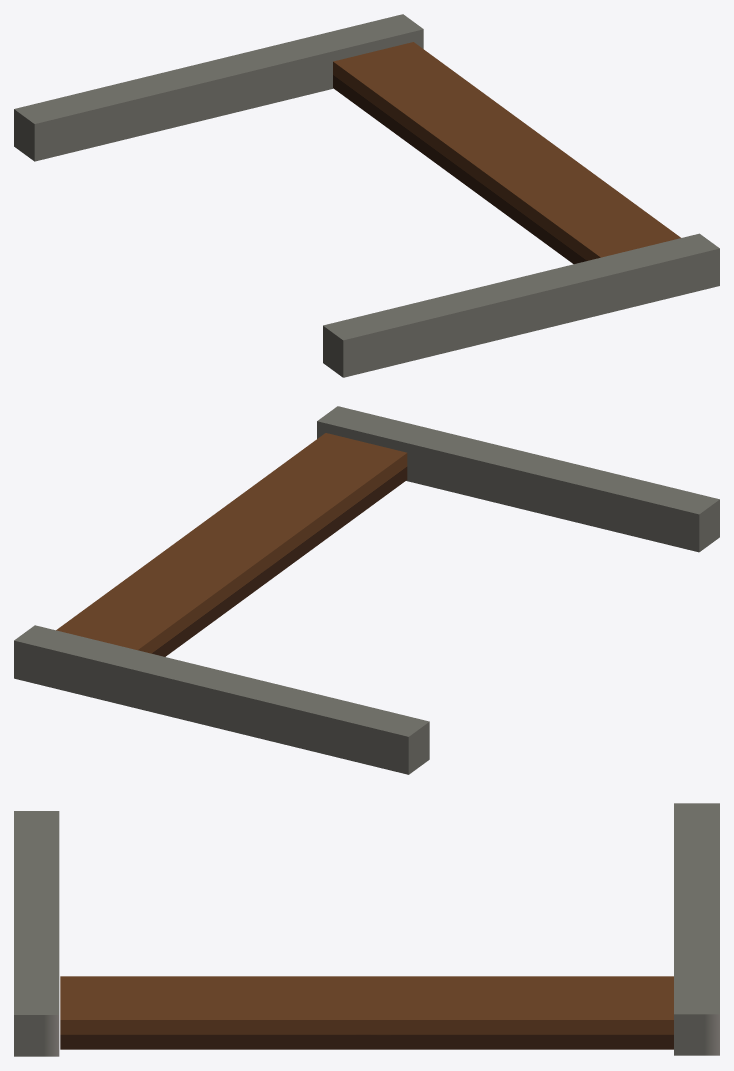
Rendered from Rails.fbx.
The picture shows the model from 3 angles, top to bottom: view 1: azimuth 30°, elevation 25°; view 2: azimuth 150°, elevation 25°; view 3: azimuth 270°, elevation 25°; orthographic projection. The views are drawn at different scales.
Parts seen in each view (by area): view 1: Cube.005; view 2: Cube.005; view 3: Cube.005.
Part boxes in pixels (box(x1,y1,x2,y2)): Cube.005: box(14, 14, 719, 377); Cube.005: box(14, 406, 719, 774); Cube.005: box(14, 803, 719, 1056).
Size of the model in its own units: 1.03 by 0.0983 by 1.46.
